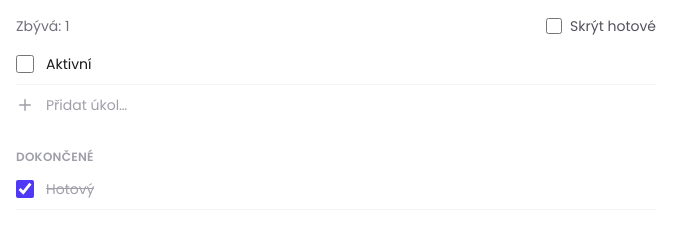
Test: TodoListView › „Skrýt hotové" schová dokončené úkoly
Expected: the text "Hotový" is shown, [46, 179, 94, 199]
Click the checkbox labelled "Skrýt hotové" at [554, 26], box [546, 18, 562, 34]
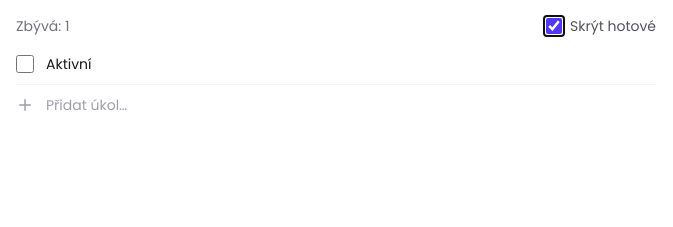
Expected: the text "Aktivní" is shown, [46, 54, 92, 74]
Now the button "Hotový" is gone
